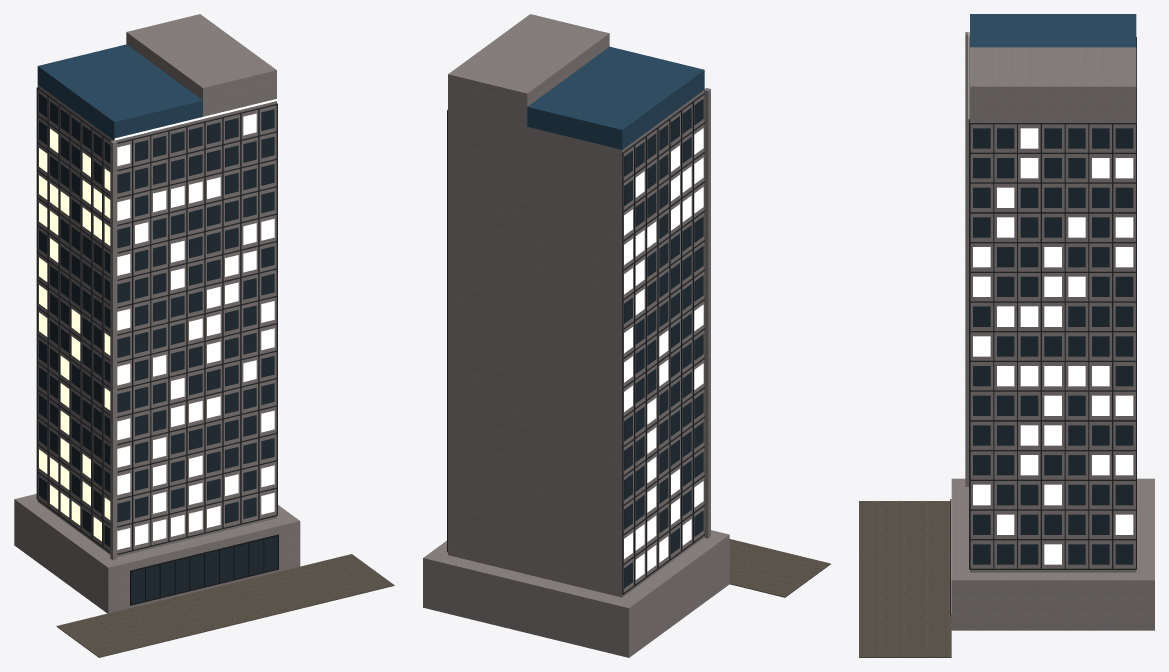
File: OT_OfficeTower_B.glb
The picture shows the model from 3 angles, left to right: view 1: azimuth 30°, elevation 25°; view 2: azimuth 150°, elevation 25°; view 3: azimuth 270°, elevation 25°; orthographic projection. The views are drawn at different scales.
Parts seen in each view (by area): view 1: OT_OfficeTower_B_Concrete, OT_OfficeTower_B_Glass__22303a, OT_OfficeTower_B_DarkFrame__25282c, OT_OfficeTower_B_InteriorWarm__ffdca8, OT_OfficeTower_B_Pavement, OT_OfficeTower_B_CurtainGlass__2b4d66, OT_OfficeTower_B_Frame__18191c; view 2: OT_OfficeTower_B_Concrete, OT_OfficeTower_B_Glass__22303a, OT_OfficeTower_B_CurtainGlass__2b4d66, OT_OfficeTower_B_DarkFrame__25282c, OT_OfficeTower_B_InteriorWarm__ffdca8, OT_OfficeTower_B_Pavement; view 3: OT_OfficeTower_B_Concrete, OT_OfficeTower_B_Glass__22303a, OT_OfficeTower_B_Pavement, OT_OfficeTower_B_InteriorWarm__ffdca8, OT_OfficeTower_B_DarkFrame__25282c, OT_OfficeTower_B_CurtainGlass__2b4d66.
Boxes of the visible parts, left/top/right/bottom form: OT_OfficeTower_B_Concrete: left=14, top=14, right=300, bottom=613; OT_OfficeTower_B_Glass__22303a: left=39, top=93, right=277, bottom=604; OT_OfficeTower_B_DarkFrame__25282c: left=36, top=87, right=277, bottom=554; OT_OfficeTower_B_InteriorWarm__ffdca8: left=39, top=113, right=274, bottom=549; OT_OfficeTower_B_Pavement: left=56, top=554, right=394, bottom=657; OT_OfficeTower_B_CurtainGlass__2b4d66: left=37, top=44, right=202, bottom=140; OT_OfficeTower_B_Frame__18191c: left=130, top=534, right=278, bottom=605; OT_OfficeTower_B_Concrete: left=423, top=14, right=729, bottom=657; OT_OfficeTower_B_Glass__22303a: left=624, top=99, right=703, bottom=588; OT_OfficeTower_B_CurtainGlass__2b4d66: left=527, top=46, right=704, bottom=149; OT_OfficeTower_B_DarkFrame__25282c: left=447, top=93, right=704, bottom=594; OT_OfficeTower_B_InteriorWarm__ffdca8: left=624, top=128, right=703, bottom=579; OT_OfficeTower_B_Pavement: left=729, top=539, right=830, bottom=597; OT_OfficeTower_B_Concrete: left=951, top=32, right=1154, bottom=630; OT_OfficeTower_B_Glass__22303a: left=973, top=128, right=1133, bottom=564; OT_OfficeTower_B_Pavement: left=859, top=501, right=951, bottom=657; OT_OfficeTower_B_InteriorWarm__ffdca8: left=951, top=128, right=1133, bottom=614; OT_OfficeTower_B_DarkFrame__25282c: left=969, top=37, right=1136, bottom=569; OT_OfficeTower_B_CurtainGlass__2b4d66: left=970, top=14, right=1136, bottom=47.
Bounding box in the file's own units: 40 × 64 × 32.
8 materials, 2 textured.
